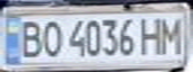0: (81, 16, 103, 57)
3: (100, 16, 121, 57)
4: (63, 17, 87, 57)
6: (115, 15, 139, 57)
B: (15, 17, 45, 59)
H: (136, 14, 166, 56)
M: (157, 13, 190, 55)
O: (39, 17, 66, 57)
